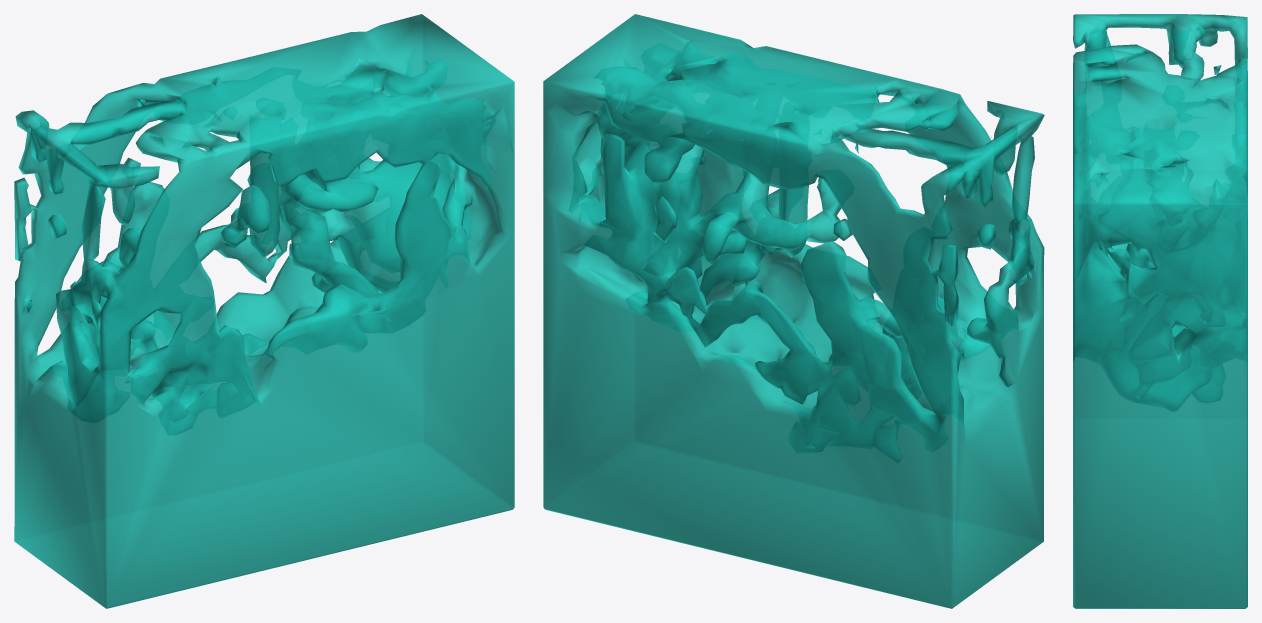
The picture shows the model from 3 angles, left to right: view 1: azimuth 30°, elevation 25°; view 2: azimuth 150°, elevation 25°; view 3: azimuth 270°, elevation 25°; orthographic projection. The views are drawn at different scales.
Parts seen in each view (by area): view 1: Liquid_Domain; view 2: Liquid_Domain; view 3: Liquid_Domain.
Boxes of the visible parts, bbox=[...] form: Liquid_Domain: bbox=[14, 14, 514, 608]; Liquid_Domain: bbox=[543, 14, 1044, 608]; Liquid_Domain: bbox=[1073, 14, 1247, 608].
Bounding box in the file's own units: 1966 × 1966 × 766.
